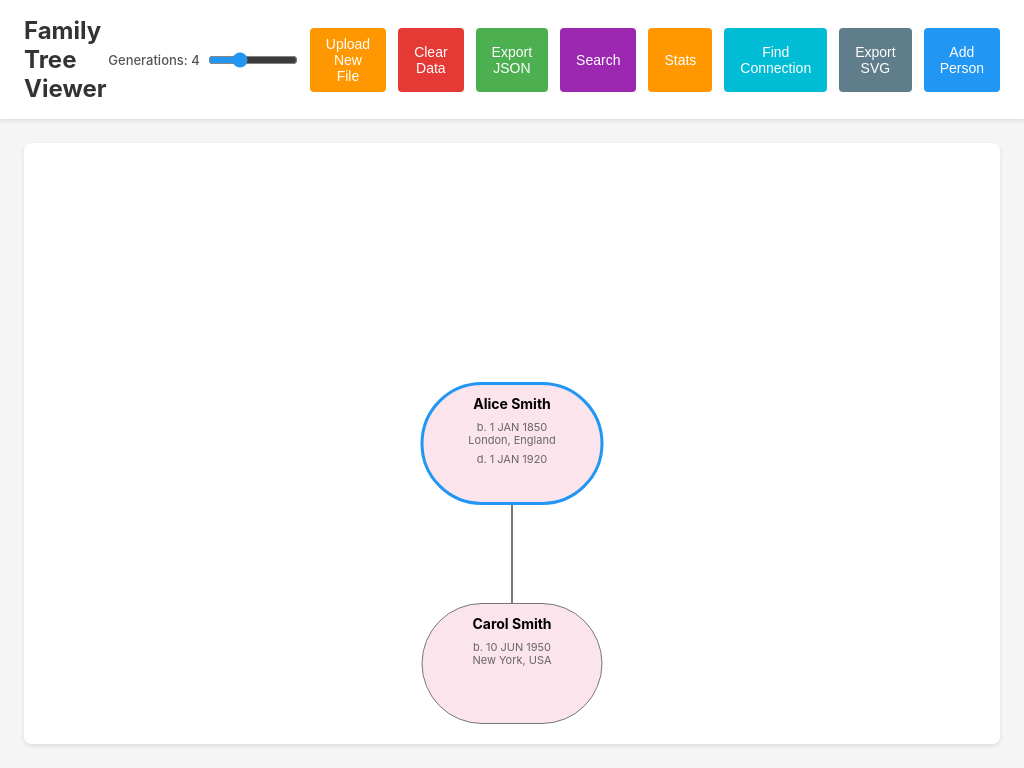
Test case: App (component) › search modal › name filter › filters results by name
Click the button with class "search-btn".
click(598, 60)  # box x1=560 y1=28 x2=636 y2=92
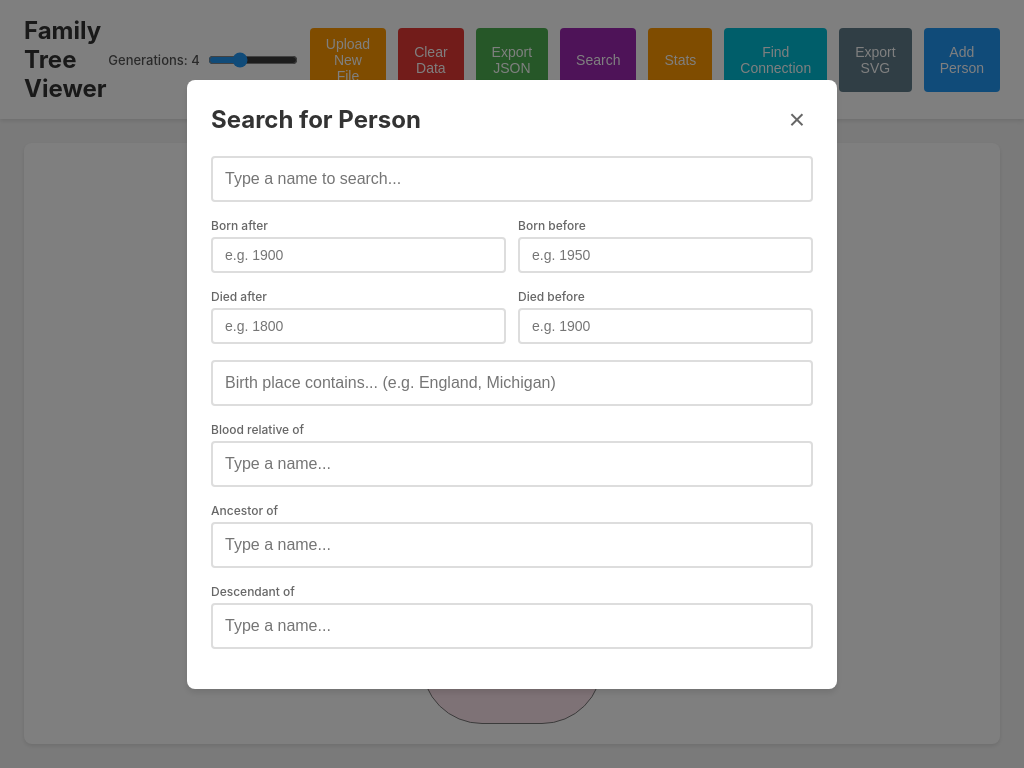
Type "alice" into the field with class "search-input" showing "Type a name to search...".
click(512, 178); type("alice")  # box x1=211 y1=156 x2=813 y2=202
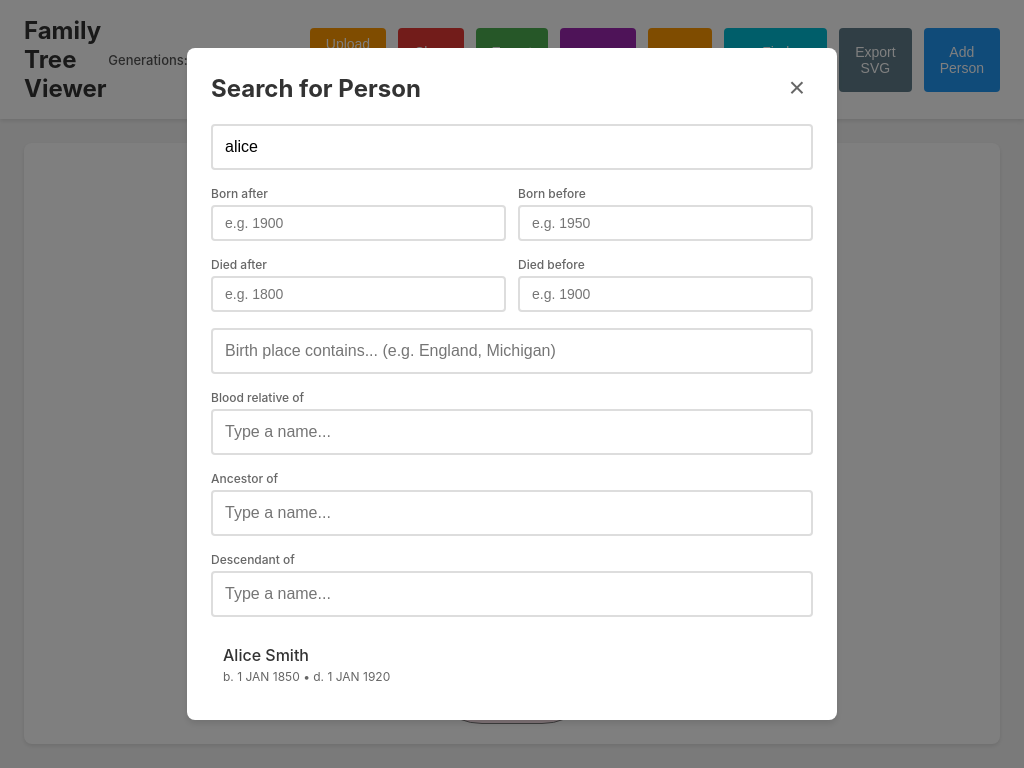
Expected: the number of elements with class "search-result-item" is 1, x1=223 y1=645 x2=390 y2=684
Expected: the element with class "search-result-item" shows "Alice Smith", x1=223 y1=645 x2=309 y2=665
